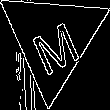M_NW: (24, 7, 81, 72)
